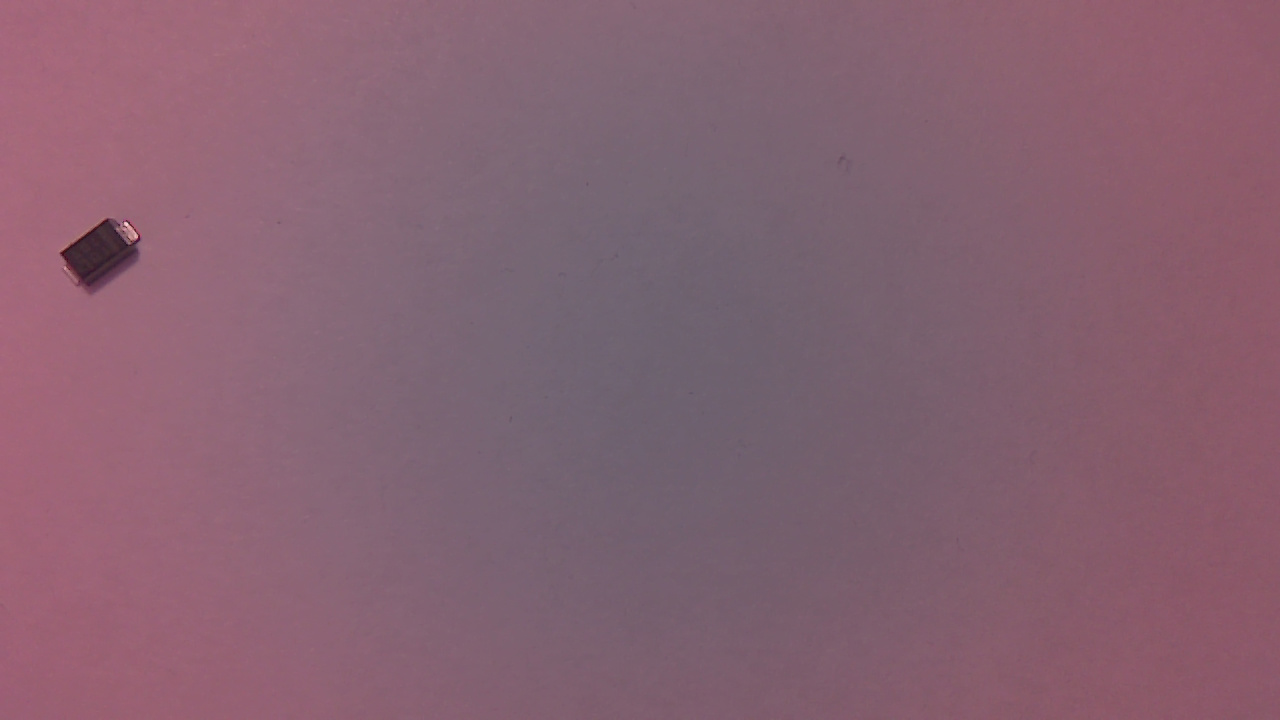Diode: (65, 213, 146, 300)
